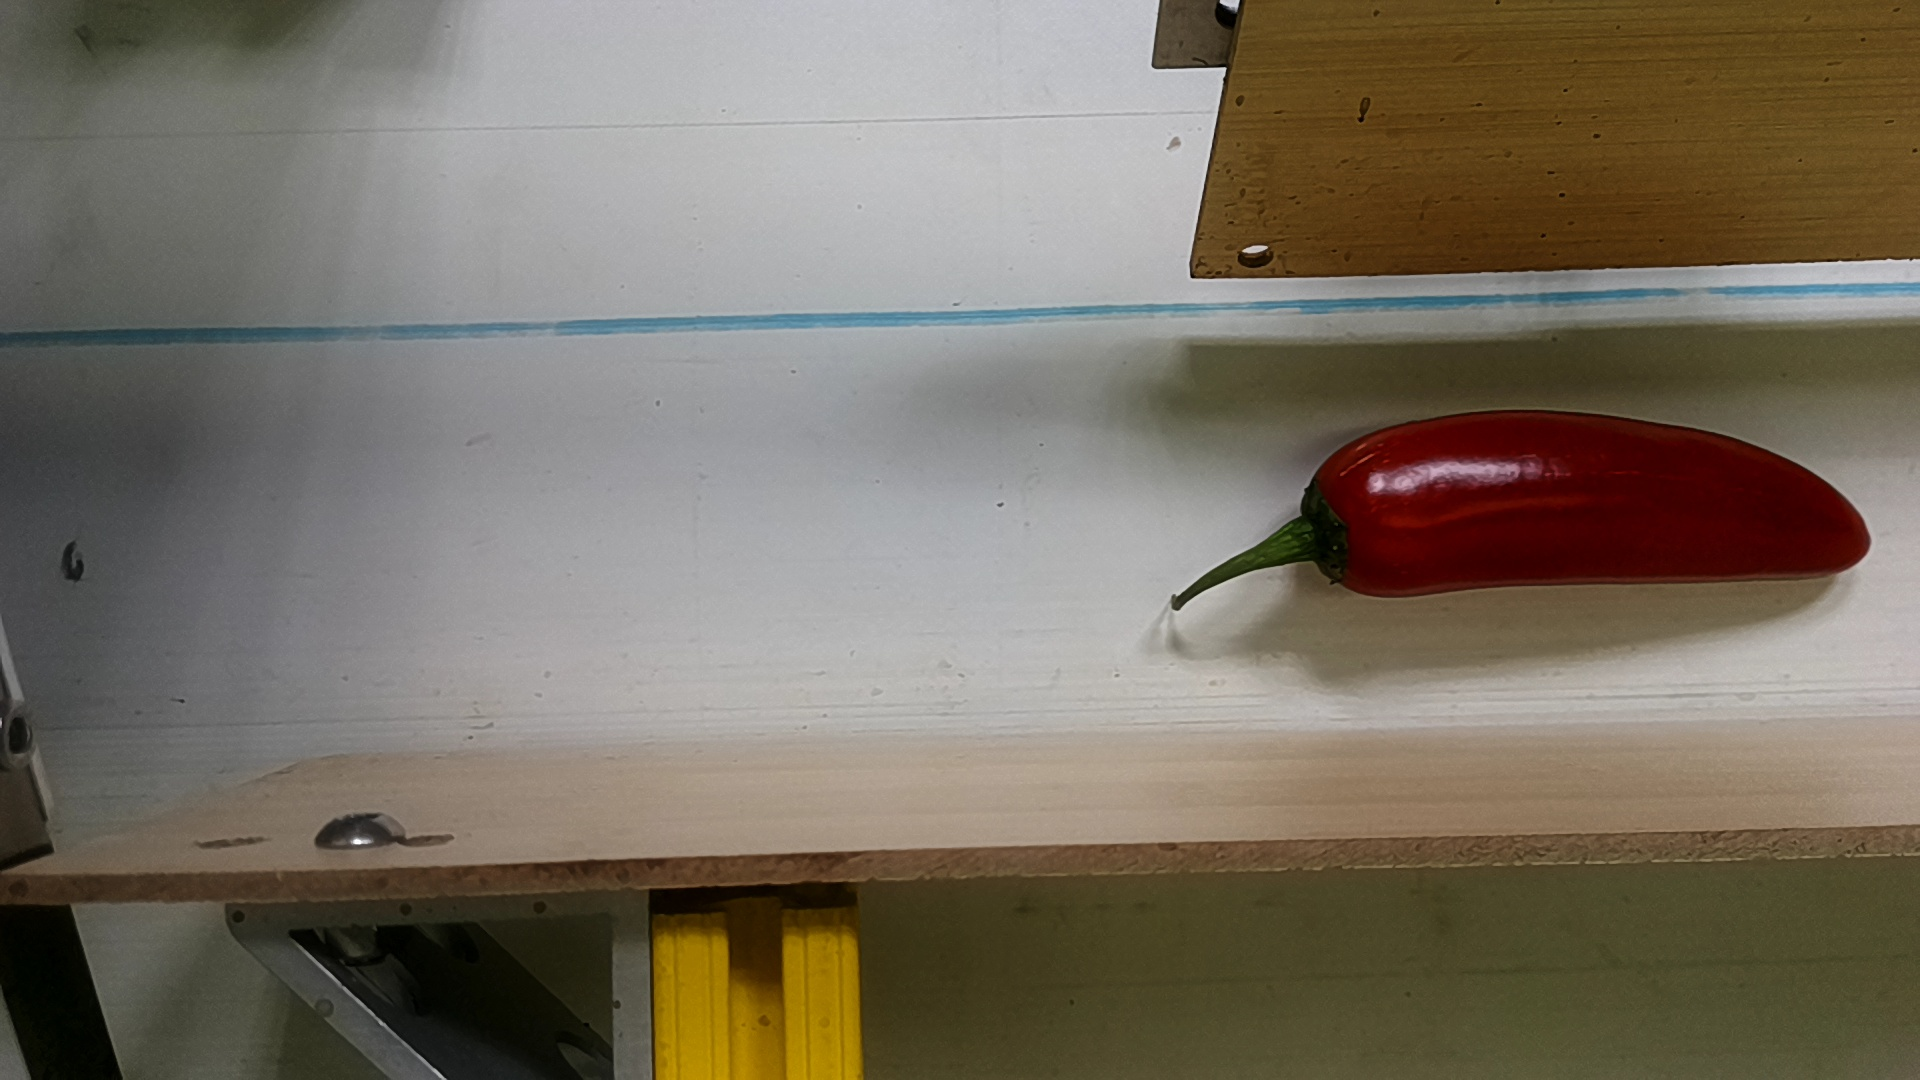Cut Point: (1284, 439, 1375, 608)
